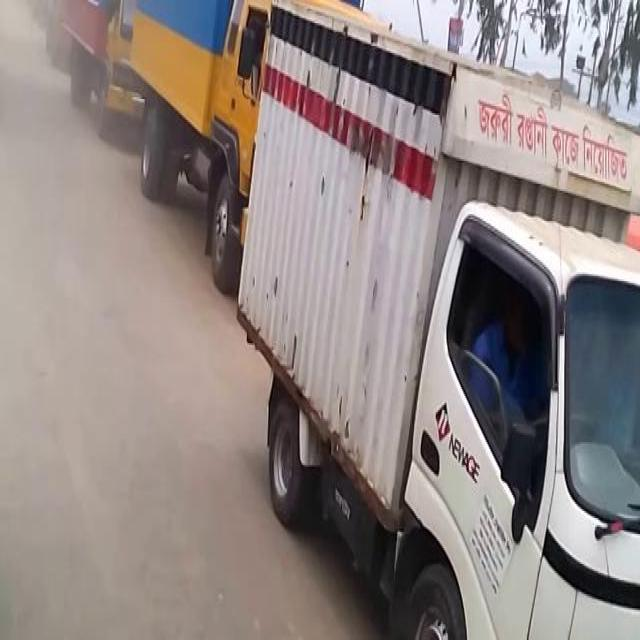pickup: (235, 4, 637, 632)
truck: (124, 3, 270, 313), (56, 1, 146, 144)
